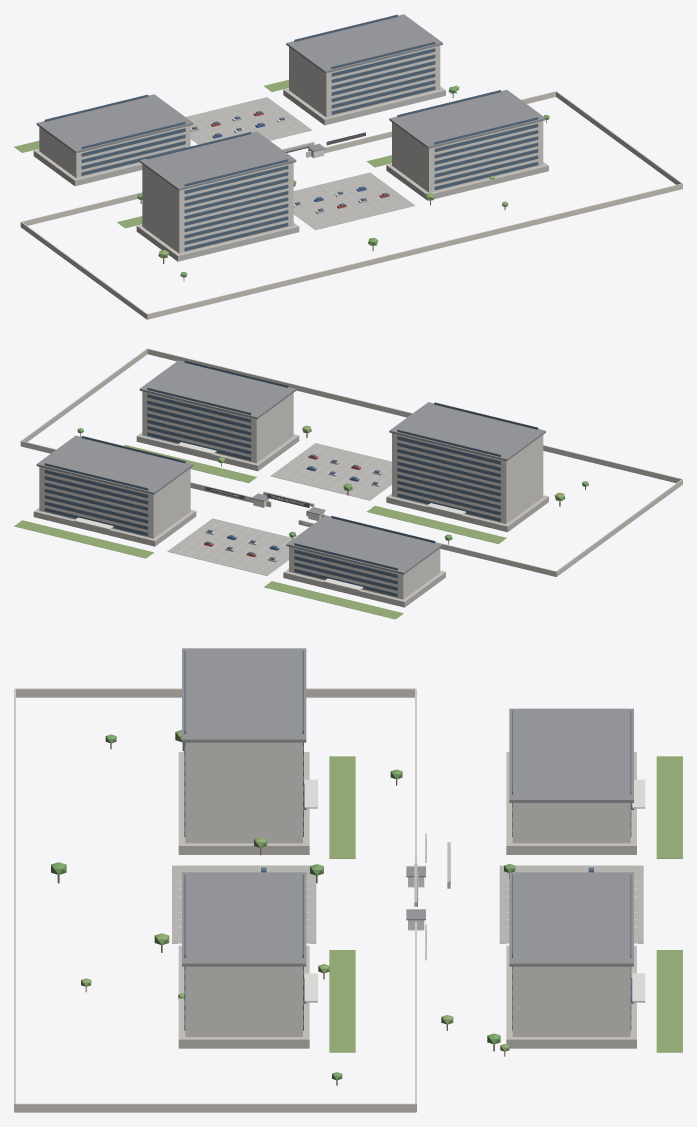
Rendered from federal_secretariat.glb.
3 views of the same model, one above another, from view 1: azimuth 30°, elevation 25°; view 2: azimuth 150°, elevation 25°; view 3: azimuth 270°, elevation 25° (orthographic). The views are drawn at different scales.
Parts seen in each view (by area): view 1: BLD_federal_secretariat; view 2: BLD_federal_secretariat; view 3: BLD_federal_secretariat.
Boxes of the visible parts, bbox=[...] form: BLD_federal_secretariat: bbox=[14, 14, 682, 319]; BLD_federal_secretariat: bbox=[14, 348, 682, 619]; BLD_federal_secretariat: bbox=[14, 648, 682, 1112].
Bounding box in the file's own units: 301 × 39.5 × 204.
